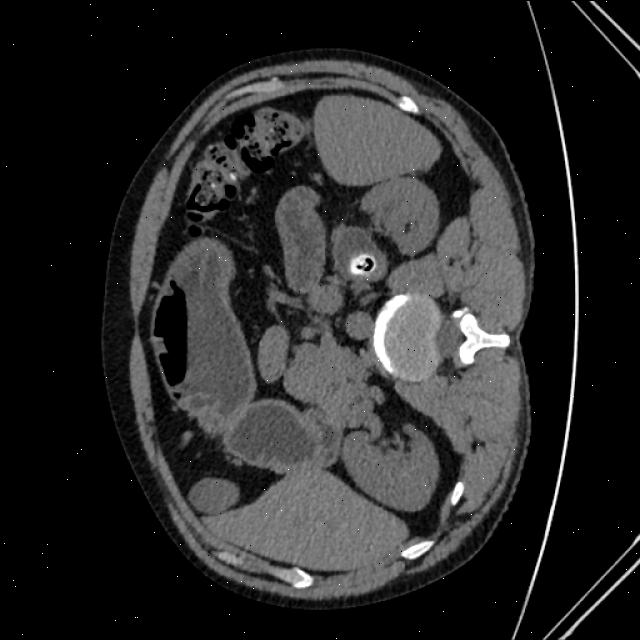kidneystone: (350, 254, 376, 274)
